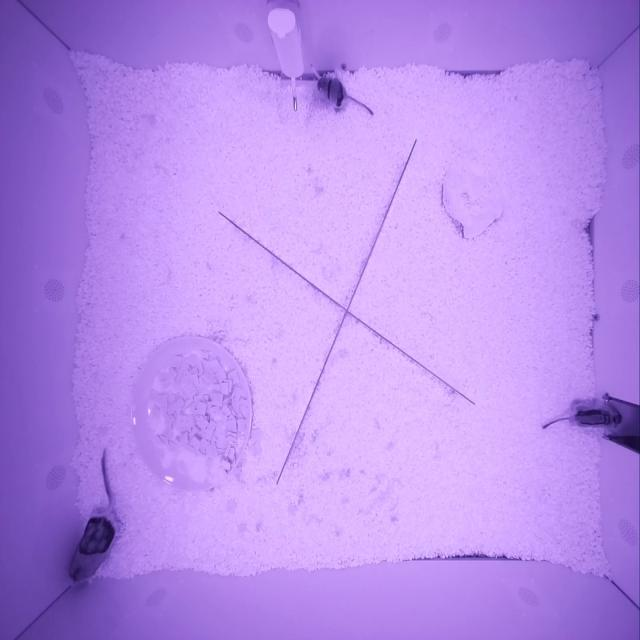adult_back: (68, 512, 118, 582)
pup_h_stripe: (317, 73, 347, 107)
pup_v_stripe: (571, 402, 622, 428)
